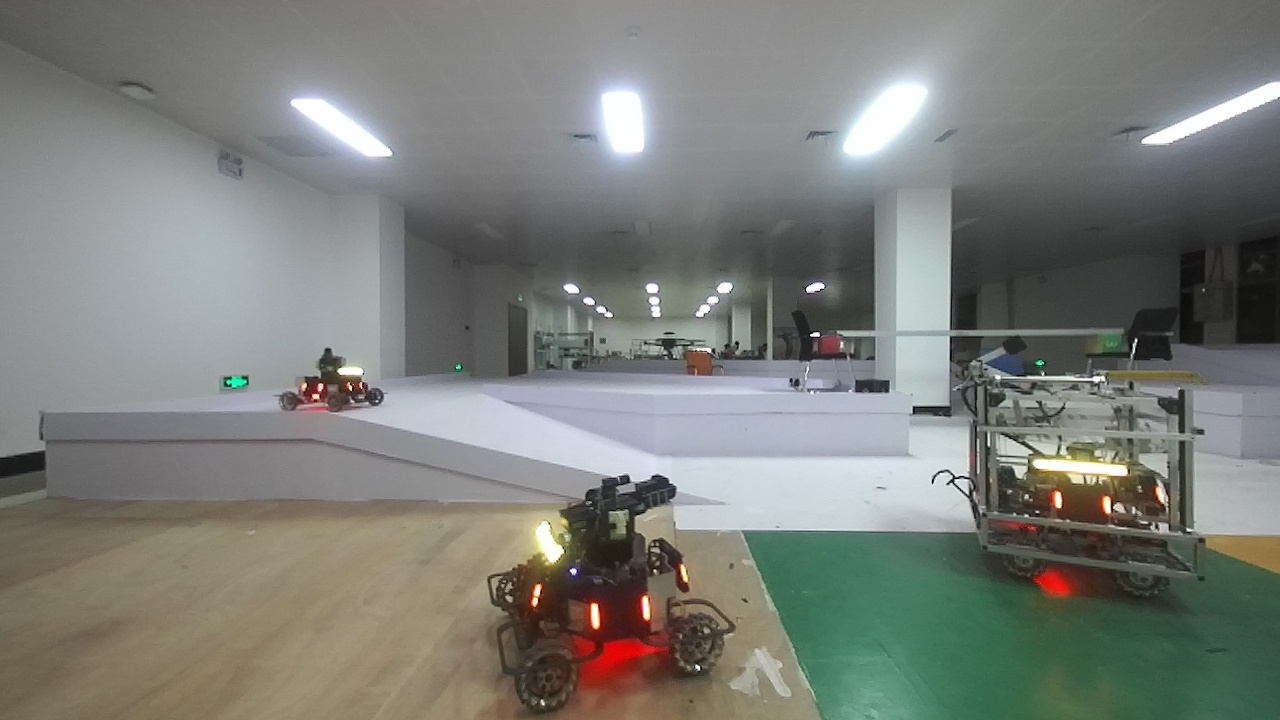car: (932, 353, 1232, 606), (476, 467, 749, 713), (264, 336, 409, 437)
